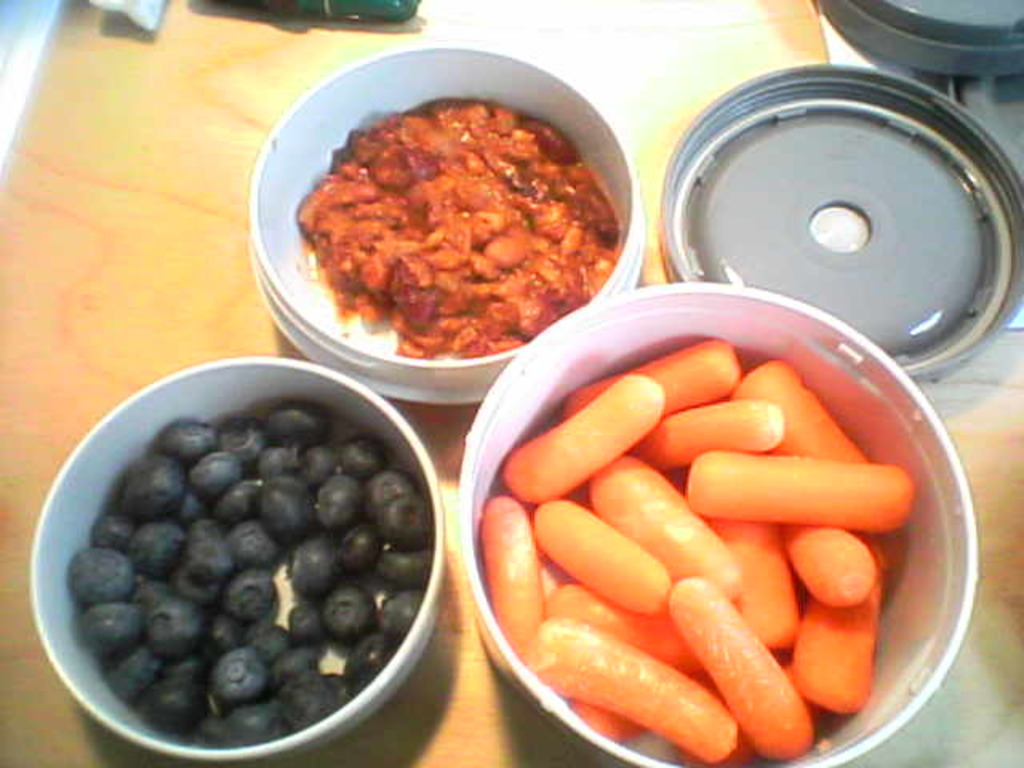Carrot: (529, 278, 958, 745), (499, 369, 665, 502)
